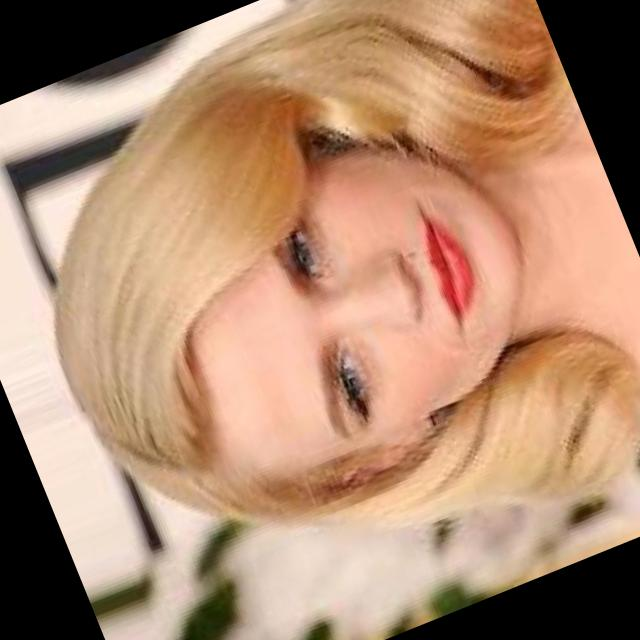bareface: (63, 62, 554, 524)
